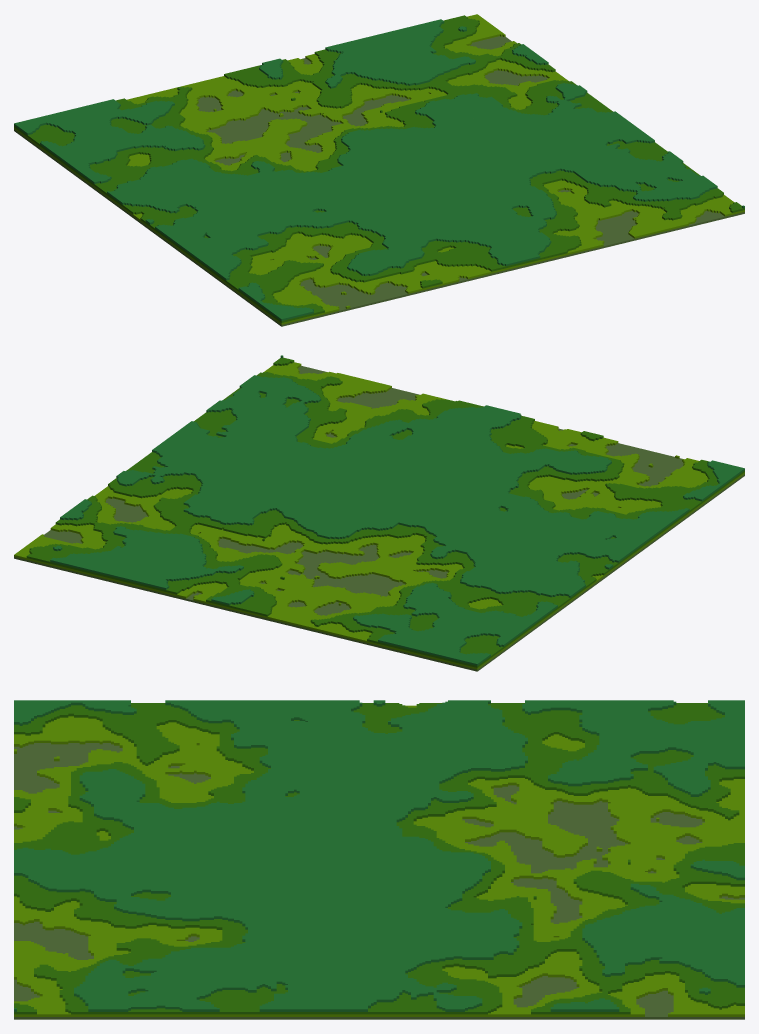
Rendered from terrain2.fbx.
3 views of the same model, one above another, from view 1: azimuth 30°, elevation 25°; view 2: azimuth 150°, elevation 25°; view 3: azimuth 270°, elevation 25° (orthographic). The views are drawn at different scales.
Visible parts, largest first — view 1: Terrain; view 2: Terrain; view 3: Terrain.
Part boxes in pixels (box(x1,y1,x2,y2)): Terrain: box(14, 14, 744, 326); Terrain: box(14, 355, 744, 671); Terrain: box(14, 700, 744, 1019).
Size of the model in its own units: 256 by 4 by 256.
